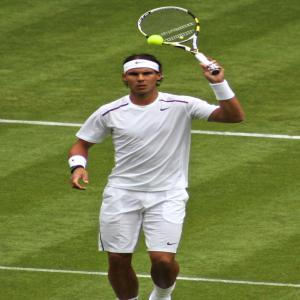TennisBall: (146, 36, 163, 50)
